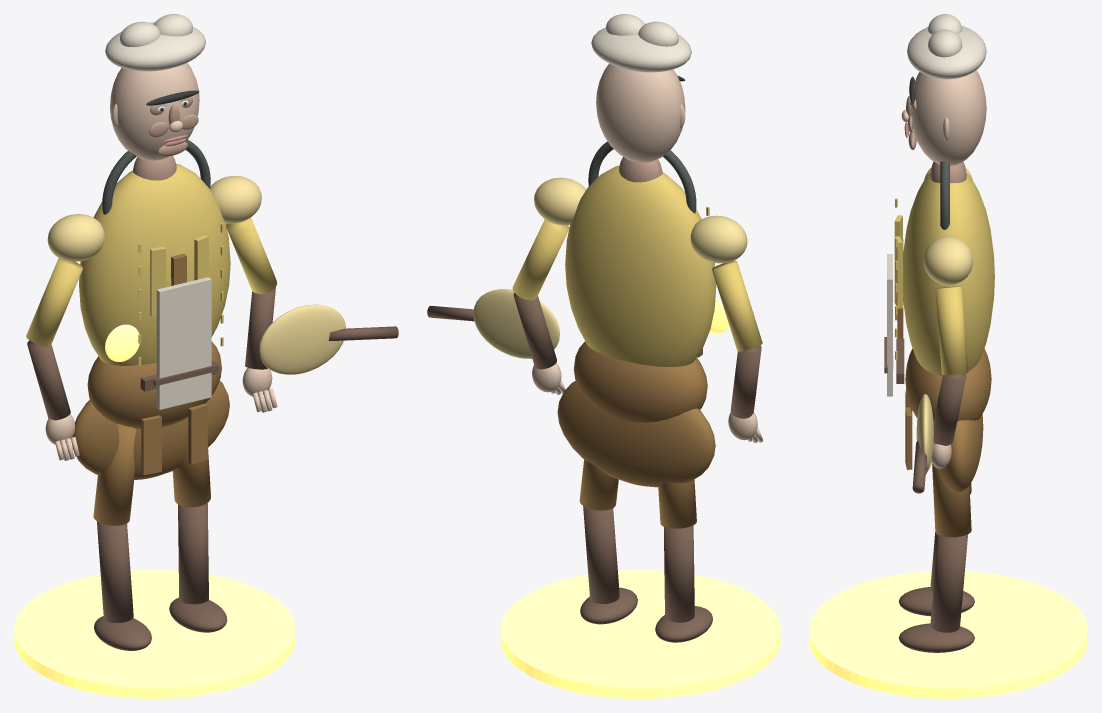
The model's file is solar-chef.glb.
The picture shows the model from 3 angles, left to right: view 1: azimuth 30°, elevation 25°; view 2: azimuth 150°, elevation 25°; view 3: azimuth 270°, elevation 25°; orthographic projection.
Visible parts, largest first — view 1: solar-chef_table_scale_base, solar-chef_ribcage, solar-chef_apron_panel, solar-chef_head, solar-chef_coat_tail, solar-chef_pelvis, solar-chef_iron_pan, solar-chef_left_shin, solar-chef_right_shin, solar-chef_left_thigh, solar-chef_chef_cap, solar-chef_left_upper_arm (+20 smaller); view 2: solar-chef_table_scale_base, solar-chef_ribcage, solar-chef_coat_tail, solar-chef_pelvis, solar-chef_head, solar-chef_iron_pan, solar-chef_chef_cap, solar-chef_right_shin, solar-chef_left_shin, solar-chef_left_upper_arm, solar-chef_right_upper_arm, solar-chef_left_shoulder (+14 smaller); view 3: solar-chef_table_scale_base, solar-chef_ribcage, solar-chef_head, solar-chef_pelvis, solar-chef_right_shin, solar-chef_chef_cap, solar-chef_right_upper_arm, solar-chef_coat_tail, solar-chef_right_shoulder, solar-chef_right_thigh, solar-chef_right_forearm, solar-chef_right_boot (+10 smaller).
Part boxes in pixels (box(x1,y1,x2,y2)): solar-chef_table_scale_base: box(14, 569, 295, 698); solar-chef_ribcage: box(79, 163, 230, 365); solar-chef_apron_panel: box(156, 277, 211, 409); solar-chef_head: box(110, 63, 199, 160); solar-chef_coat_tail: box(72, 380, 229, 479); solar-chef_pelvis: box(87, 341, 221, 429); solar-chef_iron_pan: box(259, 304, 345, 374); solar-chef_left_shin: box(97, 521, 133, 622); solar-chef_right_shin: box(178, 503, 208, 604); solar-chef_left_thigh: box(93, 424, 136, 525); solar-chef_chef_cap: box(105, 22, 205, 71); solar-chef_left_upper_arm: box(26, 258, 82, 346); solar-chef_table_scale_base: box(500, 570, 780, 698); solar-chef_ribcage: box(565, 165, 716, 366); solar-chef_coat_tail: box(557, 381, 715, 487); solar-chef_pelvis: box(573, 341, 707, 422); solar-chef_head: box(596, 63, 685, 162); solar-chef_iron_pan: box(473, 289, 559, 358); solar-chef_chef_cap: box(591, 23, 691, 72); solar-chef_right_shin: box(583, 506, 619, 603); solar-chef_left_shin: box(664, 525, 694, 622); solar-chef_left_upper_arm: box(712, 260, 762, 351); solar-chef_right_upper_arm: box(512, 219, 569, 300); solar-chef_left_shoulder: box(690, 215, 747, 263); solar-chef_table_scale_base: box(809, 571, 1087, 698); solar-chef_ribcage: box(903, 173, 994, 376); solar-chef_head: box(911, 70, 986, 165); solar-chef_pelvis: box(905, 348, 991, 421); solar-chef_right_shin: box(930, 534, 967, 632); solar-chef_chef_cap: box(907, 26, 986, 79); solar-chef_right_upper_arm: box(935, 286, 968, 374); solar-chef_coat_tail: box(938, 414, 983, 492); solar-chef_right_shoulder: box(923, 236, 973, 285); solar-chef_right_thigh: box(932, 464, 971, 537); solar-chef_right_forearm: box(933, 373, 966, 445); solar-chef_right_boot: box(899, 623, 974, 652).
Size of the model in its own units: 1.21 by 2.05 by 0.84.
